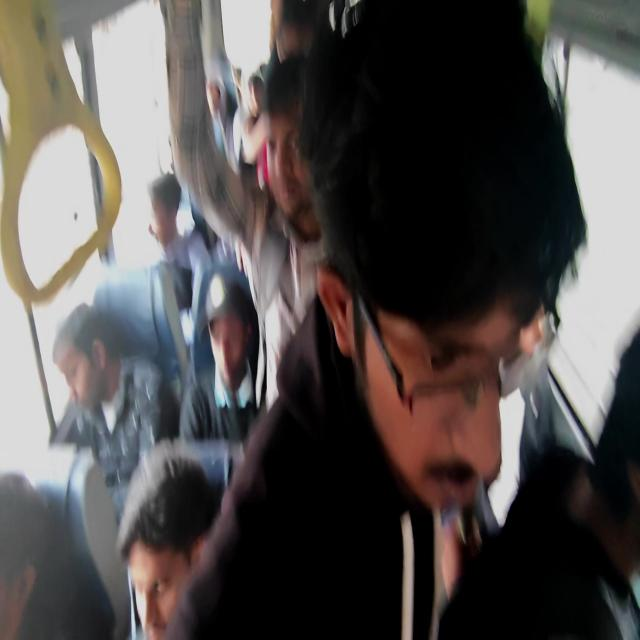person: (163, 1, 588, 637), (160, 0, 326, 416), (437, 326, 639, 638), (52, 302, 179, 522), (116, 439, 222, 638), (0, 471, 116, 638), (178, 271, 259, 445), (147, 171, 211, 313)
